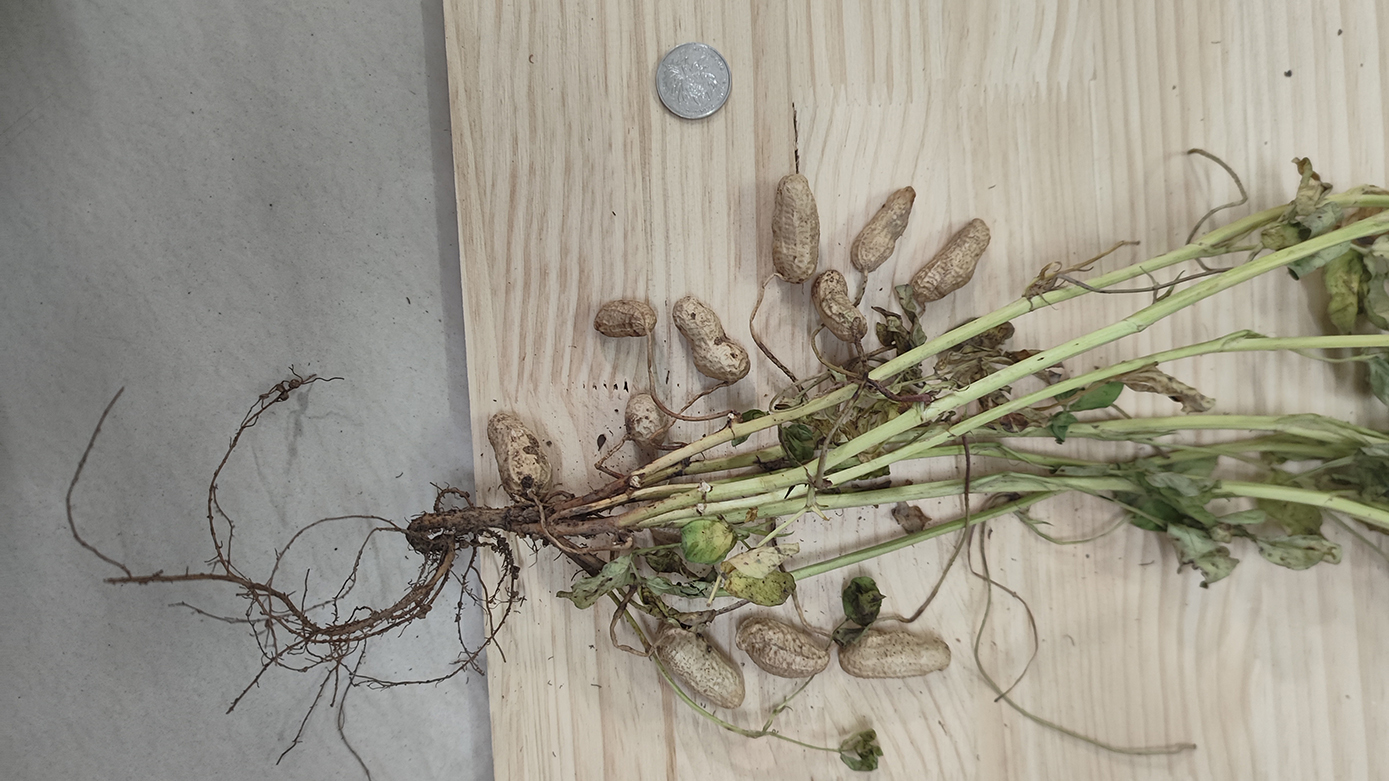h: (654, 628, 744, 709), (908, 218, 992, 303), (673, 293, 749, 381), (735, 615, 831, 679), (486, 411, 552, 503), (848, 185, 917, 272), (837, 629, 951, 679), (770, 175, 821, 284), (811, 269, 866, 341), (624, 392, 669, 451), (594, 299, 656, 338)
